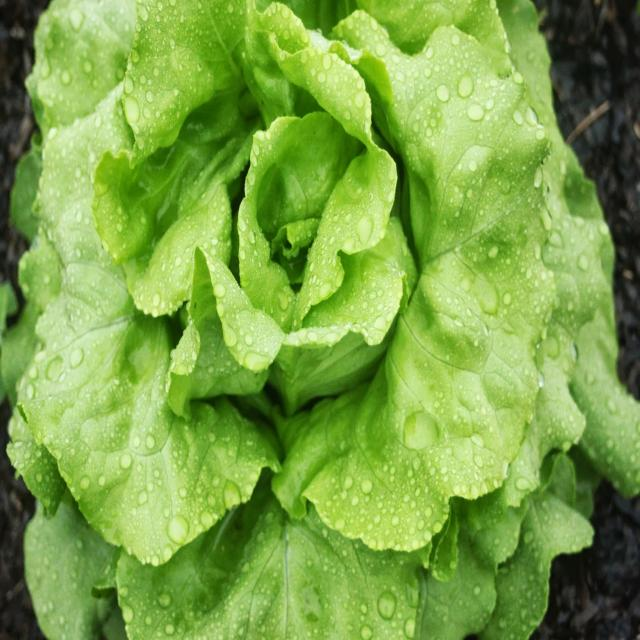lettuce: (16, 0, 612, 640)
